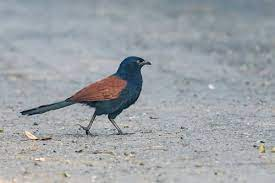Walking: (18, 50, 163, 146)
